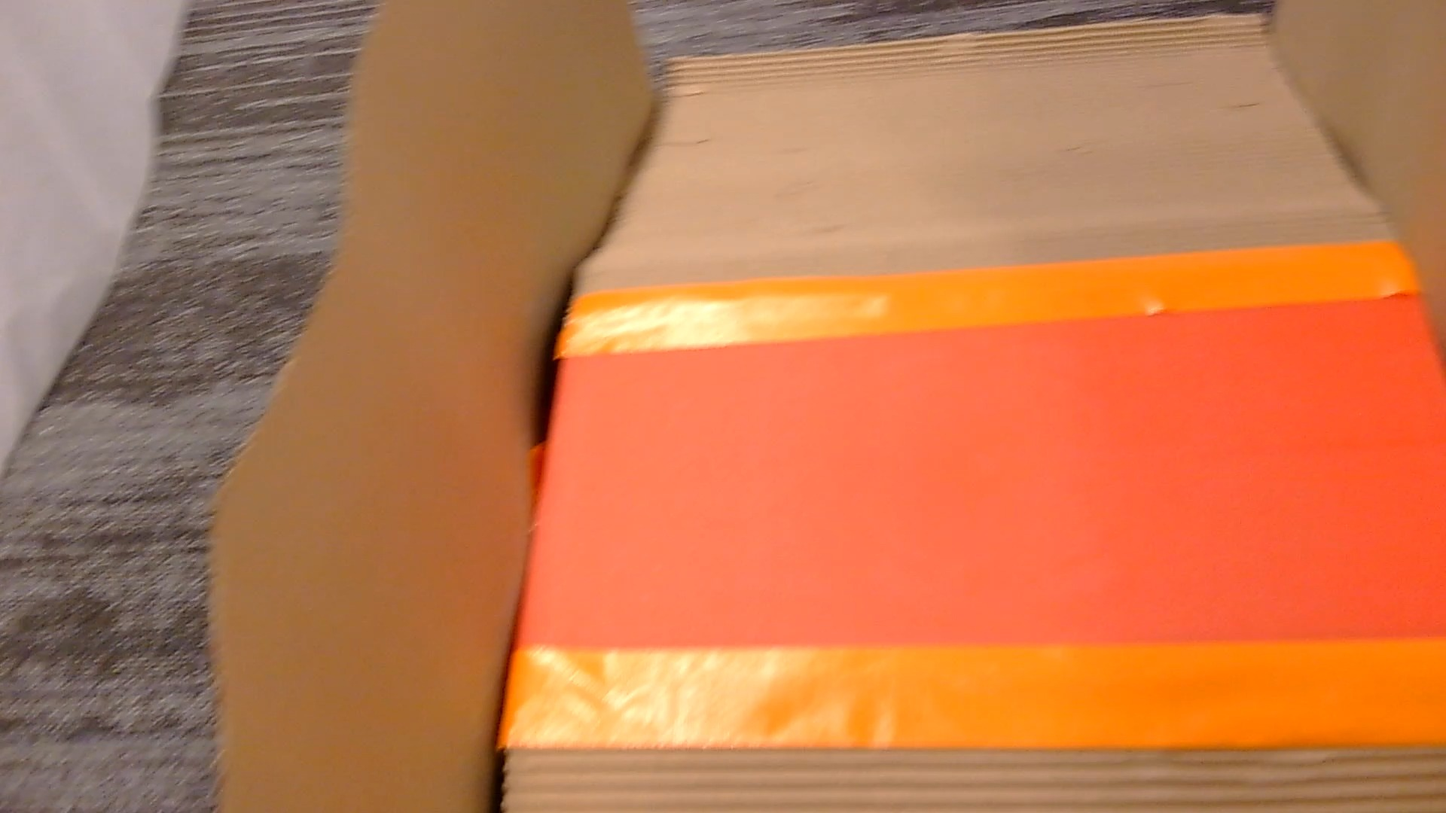Ramp: (211, 0, 1445, 812), (557, 240, 1417, 357)
